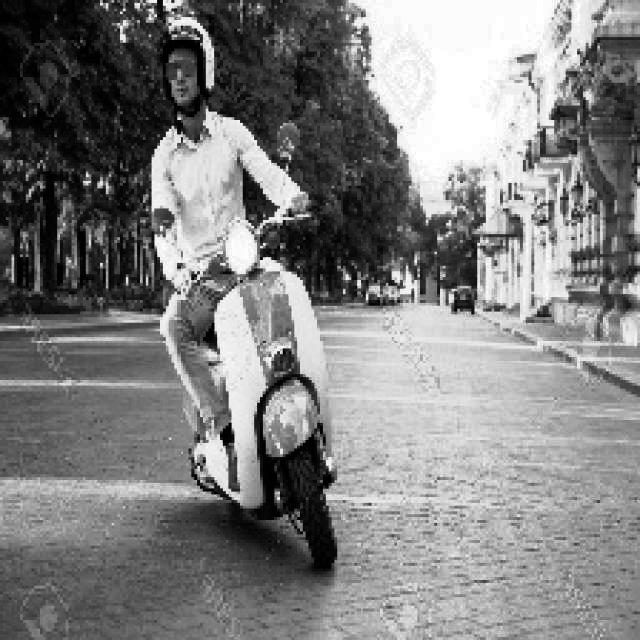Bike: (194, 226, 349, 570)
